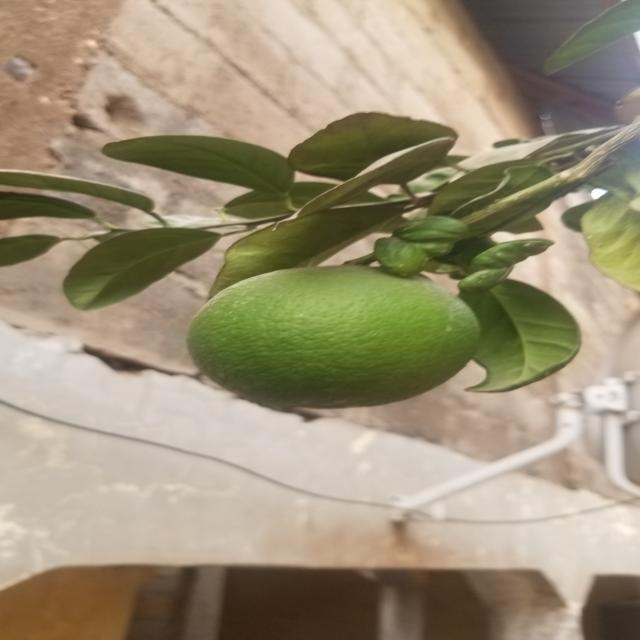agrume: (170, 261, 490, 423)
